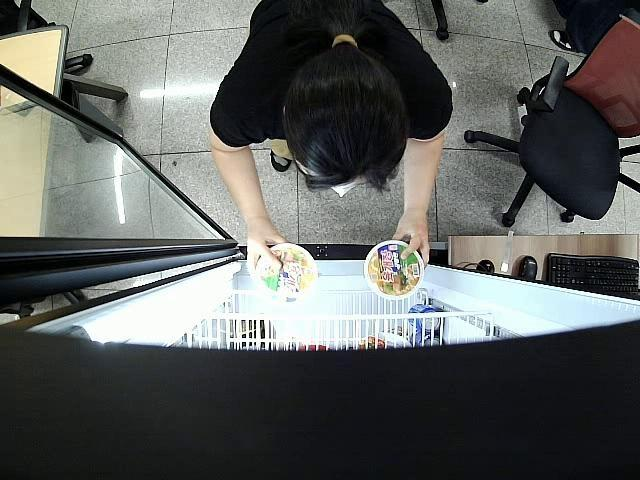09_yukGaeJang: (252, 242, 316, 304), (364, 242, 424, 299)
